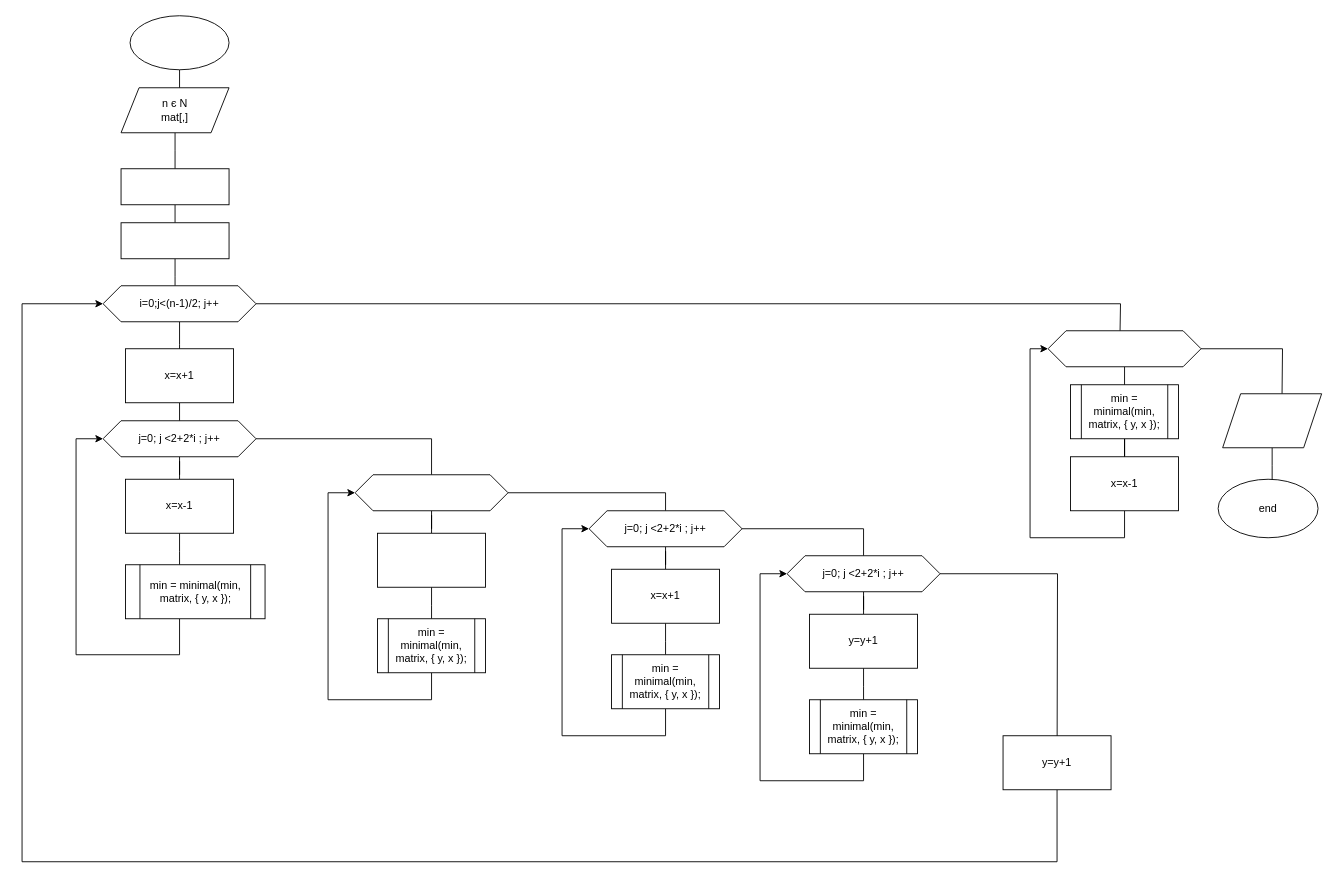
Image size: 1337x885. Some labels were removed from this diagram. Each missing label, with the box of its shape:
i=0; i<n : i ++: (1047, 330, 1201, 367)
j=0; j <1+2*i ; j++: (354, 474, 508, 511)
min: (1222, 393, 1322, 448)
min={(y,x)}: (120, 222, 229, 259)
start: (129, 15, 229, 70)
x=(n-1)/2 y=(n-1)/2: (120, 168, 229, 205)
y=y-1: (377, 532, 486, 587)
